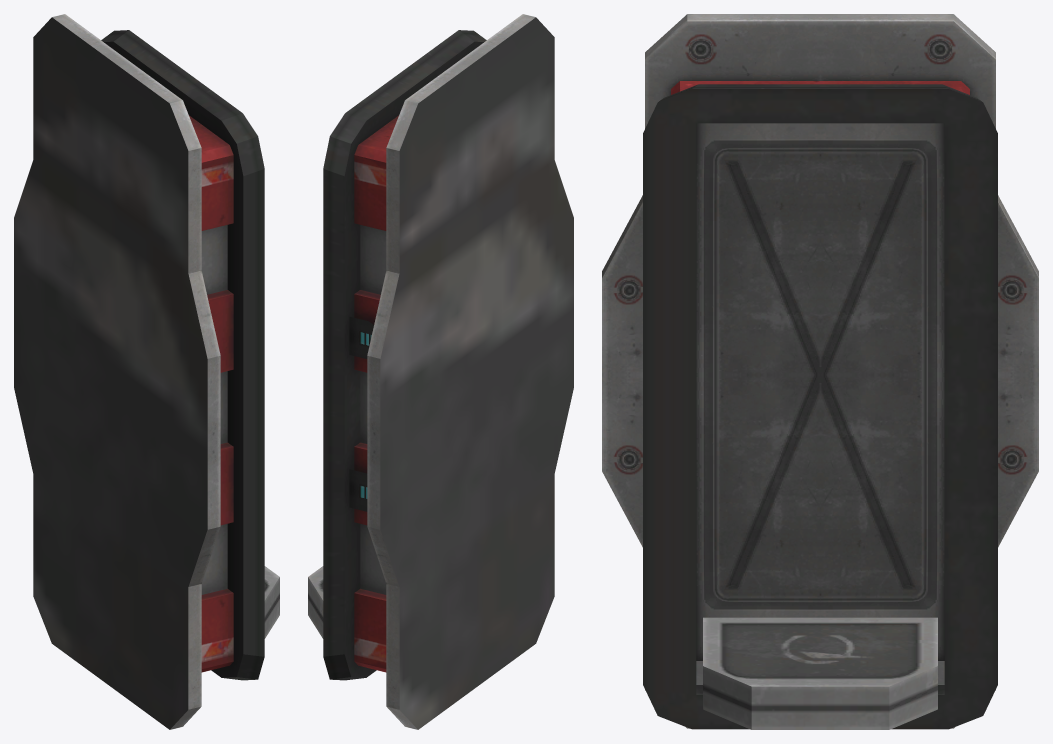
The model's file is p6_future_fire_extinguisher_case_base_mil_lod1.glb.
3 views of the same model, side by side, from view 1: azimuth 30°, elevation 25°; view 2: azimuth 150°, elevation 25°; view 3: azimuth 270°, elevation 25° (orthographic). The views are drawn at different scales.
Parts seen in each view (by area): view 1: surf0; view 2: surf0; view 3: surf0.
Part boxes in pixels (box(x1,y1,x2,y2)): surf0: box(14, 14, 279, 729); surf0: box(308, 14, 573, 729); surf0: box(602, 14, 1038, 729).
Bounding box in the file's own units: 9.29 × 40.13 × 22.46.
